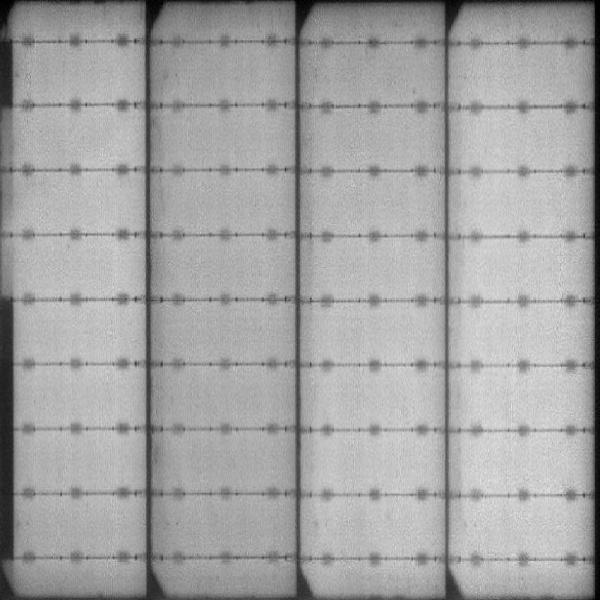black_border: (1, 294, 20, 564), (1, 34, 19, 109)
